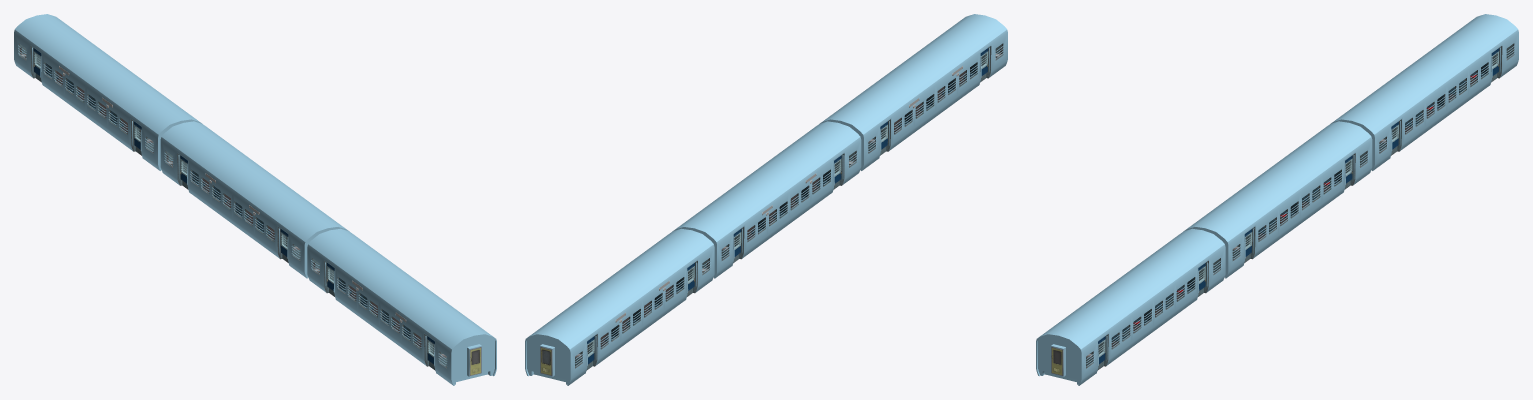
File: Tren.fbx
The picture shows the model from 3 angles, left to right: view 1: azimuth 30°, elevation 25°; view 2: azimuth 150°, elevation 25°; view 3: azimuth 330°, elevation 25°; orthographic projection.
Visible parts, largest first — view 1: Train_Prefab__1__Variant_Outside_0.002, Train_Prefab__1__Variant_Outside_0, Train_Prefab__1__Variant_Outside_0.001, Train_Prefab__1__Variant_Inside_0.002, Train_Prefab__1__Variant_Inside_0, Train_Prefab__1__Variant_Inside_0.001; view 2: Train_Prefab__1__Variant_Outside_0.001, Train_Prefab__1__Variant_Outside_0, Train_Prefab__1__Variant_Outside_0.002, Train_Prefab__1__Variant_Inside_0, Train_Prefab__1__Variant_Inside_0.001, Train_Prefab__1__Variant_Inside_0.002; view 3: Train_Prefab__1__Variant_Outside_0.002, Train_Prefab__1__Variant_Outside_0, Train_Prefab__1__Variant_Outside_0.001, Train_Prefab__1__Variant_Inside_0.002, Train_Prefab__1__Variant_Inside_0, Train_Prefab__1__Variant_Inside_0.001.
Part boxes in pixels (left/top/right/bottom): Train_Prefab__1__Variant_Outside_0.002: left=307, top=228, right=496, bottom=385; Train_Prefab__1__Variant_Outside_0: left=160, top=121, right=349, bottom=278; Train_Prefab__1__Variant_Outside_0.001: left=14, top=14, right=202, bottom=170; Train_Prefab__1__Variant_Inside_0.002: left=312, top=258, right=446, bottom=370; Train_Prefab__1__Variant_Inside_0: left=165, top=150, right=300, bottom=262; Train_Prefab__1__Variant_Inside_0.001: left=18, top=43, right=153, bottom=155; Train_Prefab__1__Variant_Outside_0.001: left=525, top=228, right=714, bottom=385; Train_Prefab__1__Variant_Outside_0: left=672, top=121, right=861, bottom=278; Train_Prefab__1__Variant_Outside_0.002: left=819, top=14, right=1007, bottom=170; Train_Prefab__1__Variant_Inside_0: left=721, top=150, right=856, bottom=262; Train_Prefab__1__Variant_Inside_0.001: left=575, top=258, right=709, bottom=370; Train_Prefab__1__Variant_Inside_0.002: left=868, top=43, right=1003, bottom=155; Train_Prefab__1__Variant_Outside_0.002: left=1036, top=228, right=1225, bottom=385; Train_Prefab__1__Variant_Outside_0: left=1183, top=121, right=1372, bottom=278; Train_Prefab__1__Variant_Outside_0.001: left=1330, top=14, right=1518, bottom=170; Train_Prefab__1__Variant_Inside_0.002: left=1086, top=258, right=1220, bottom=370; Train_Prefab__1__Variant_Inside_0: left=1232, top=150, right=1367, bottom=262; Train_Prefab__1__Variant_Inside_0.001: left=1379, top=43, right=1514, bottom=155.
Size of the model in its own units: 429 by 393 by 6935.
Materials: 8 (7 with a texture image).
